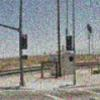traffic lights: (65, 35, 72, 51), (22, 34, 28, 50)
